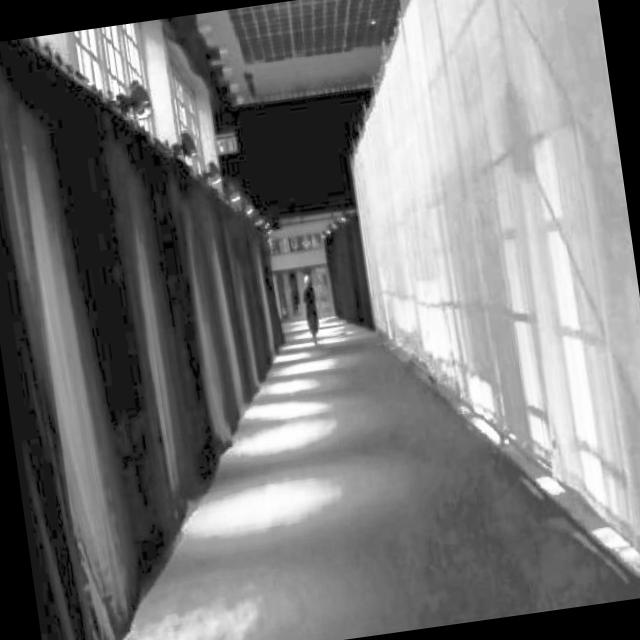Person: (298, 270, 326, 352)
